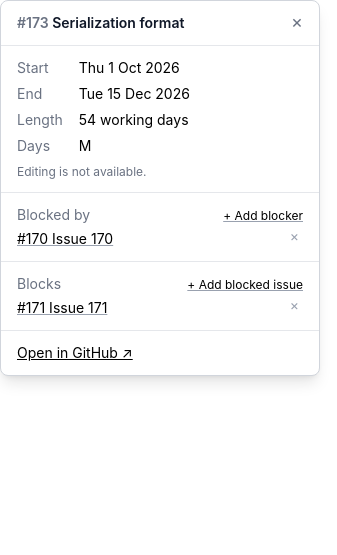
TaskDetail › blocking links › shows the error and keeps the picker open when linking fails
This screenshot has width=337, height=555.
Step 1. Click the button "+ Add blocker" → (263, 216), box 223,208 -> 303,224
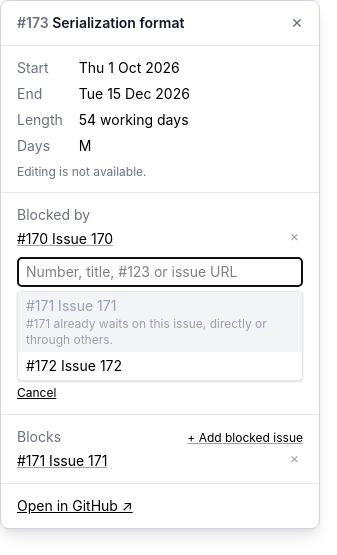
Step 2. Type "172" into the dropdown named "Add blocker" → (160, 272), box 17,257 -> 303,287
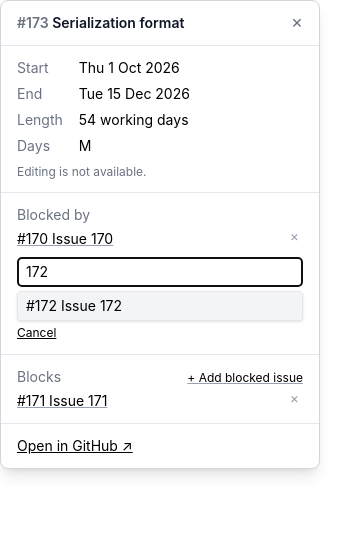
Step 3. Press Enter in the dropdown named "Add blocker", box 17,257 -> 303,287
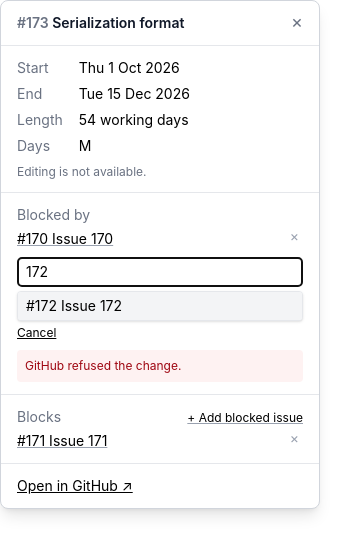
Check: the message "GitHub refused the change." is shown, box 17,350 -> 303,382
